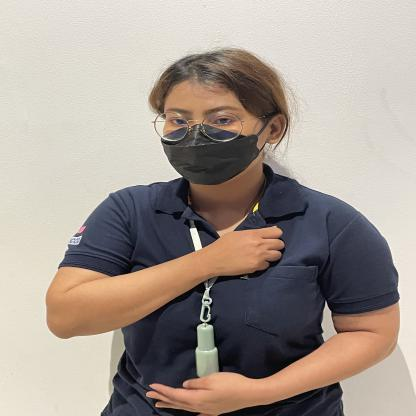Sadness: (30, 213, 296, 344), (219, 125, 223, 135)
